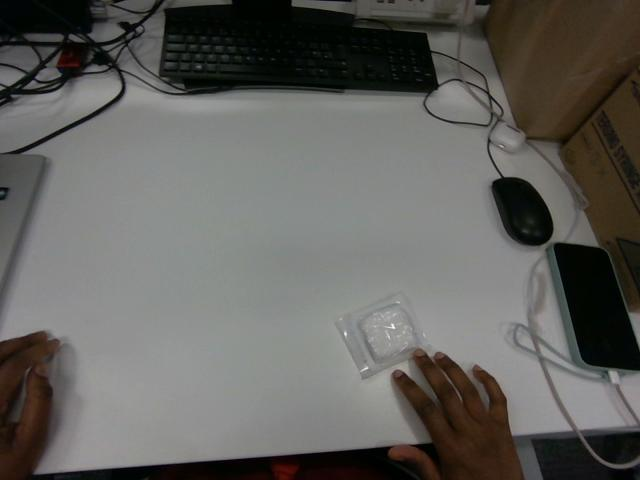gauze: (336, 293, 427, 378)
